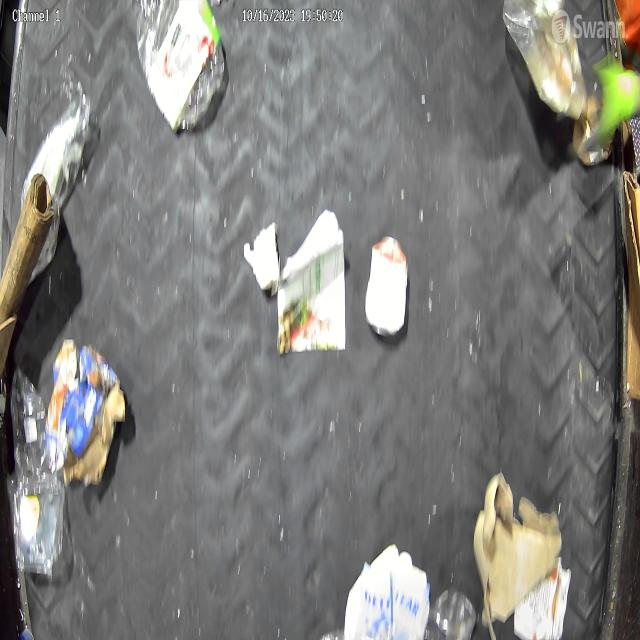can: (363, 232, 410, 342), (425, 584, 479, 640)
plastic_bottle: (135, 0, 228, 131)
